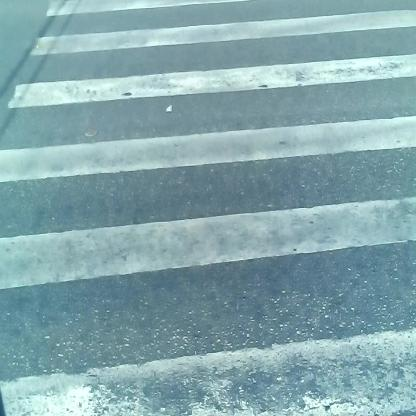crosswalk: (11, 9, 412, 416)
